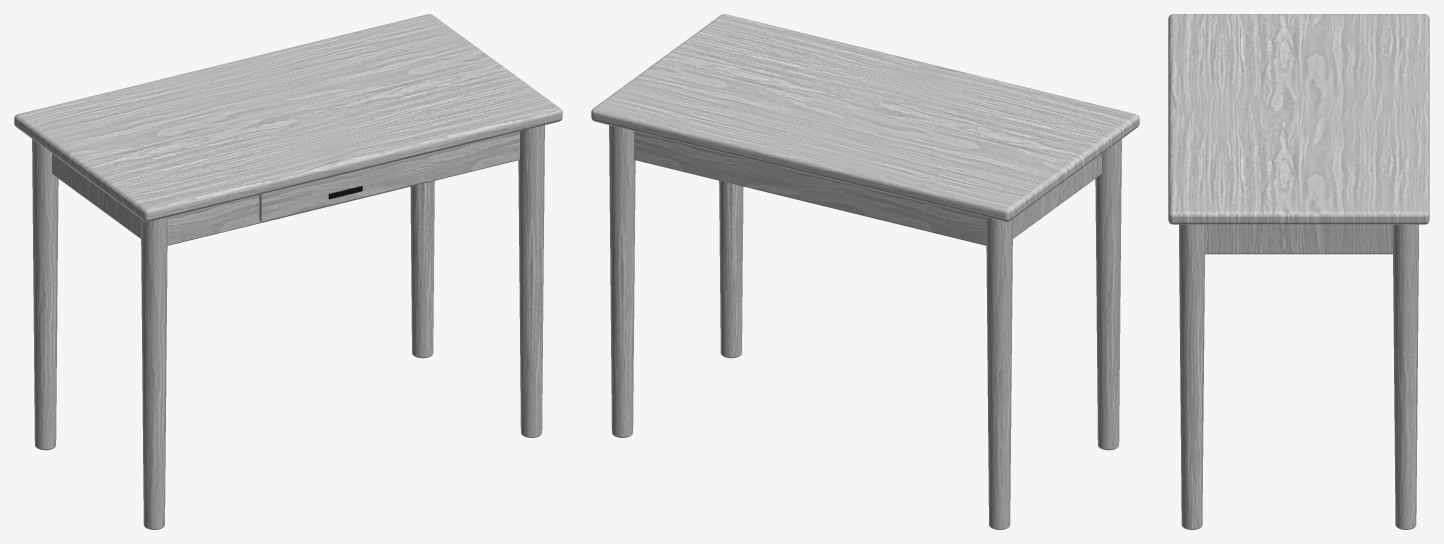
Rendered from desk-1.0m.gltf.
The picture shows the model from 3 angles, left to right: view 1: azimuth 30°, elevation 25°; view 2: azimuth 150°, elevation 25°; view 3: azimuth 270°, elevation 25°; orthographic projection.
Parts seen in each view (by area): view 1: desk; view 2: desk; view 3: desk.
Part boxes in pixels (bbox=[...]): desk: bbox=[14, 14, 562, 529]; desk: bbox=[591, 14, 1139, 529]; desk: bbox=[1168, 14, 1429, 529].
Size of the model in its own units: 1 by 0.75 by 0.55.
Materials: 2 (1 with a texture image).
